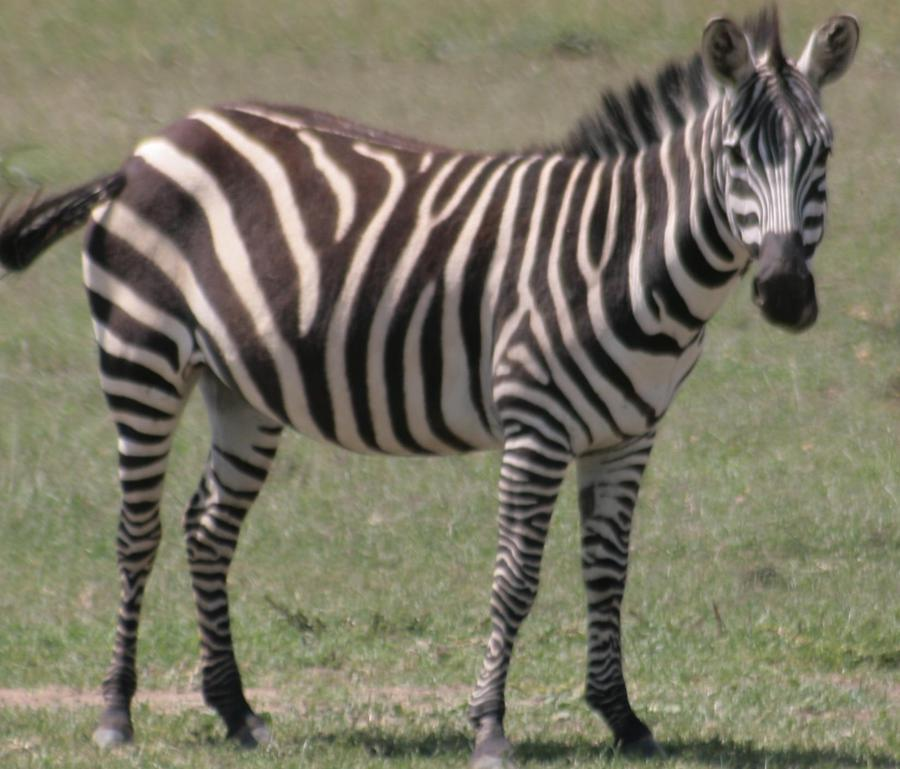zebra_plains: (63, 102, 657, 433)
